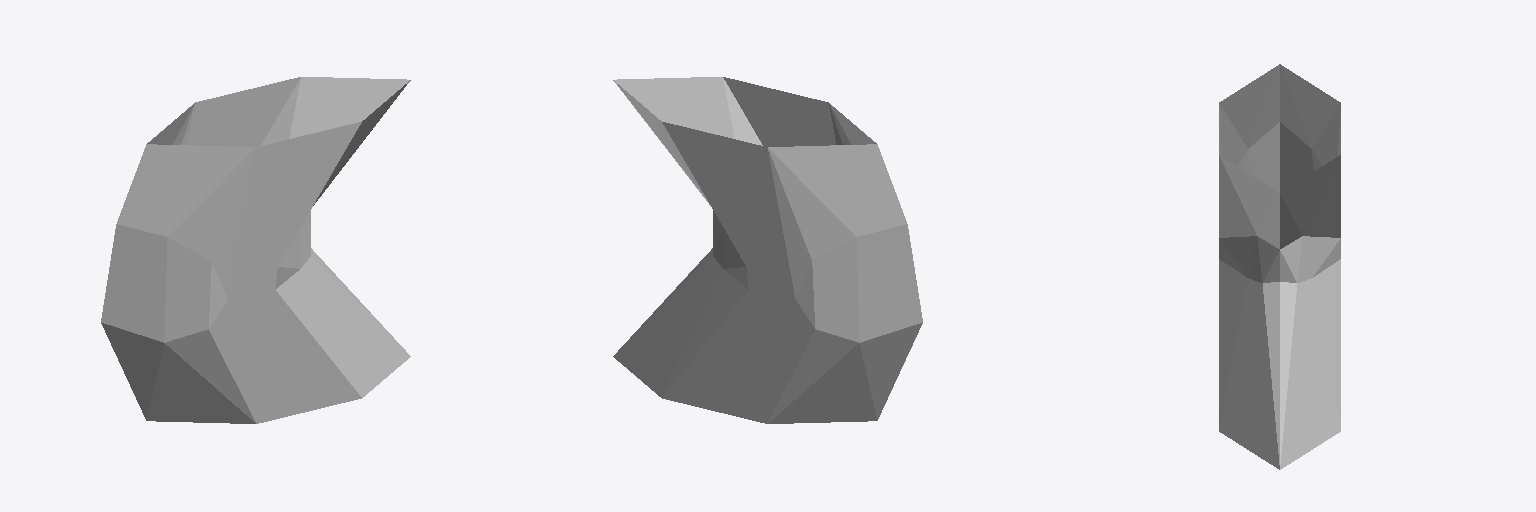
Rendered from rhodium_body_mid.obj.
The picture shows the model from 3 angles: view 1: azimuth 30°, elevation 25°; view 2: azimuth 150°, elevation 25°; view 3: azimuth 270°, elevation 25°; orthographic projection.
Parts seen in each view (by area): view 1: RhodiumBodyMid; view 2: RhodiumBodyMid; view 3: RhodiumBodyMid.
Part boxes in pixels (left/top/right/bottom): RhodiumBodyMid: left=101, top=77, right=410, bottom=423; RhodiumBodyMid: left=613, top=77, right=922, bottom=423; RhodiumBodyMid: left=1219, top=64, right=1340, bottom=469.
Size of the model in its own units: 2.35 by 2 by 0.8.